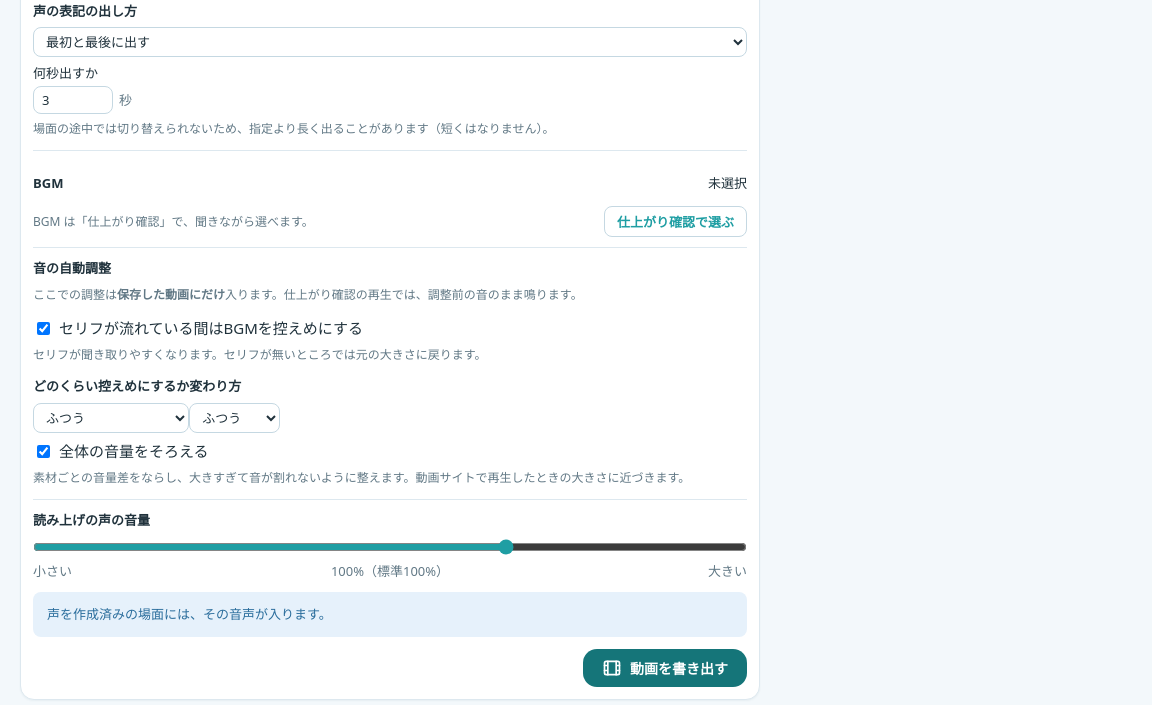
Test case: ExportScreen 取り込み中は書き出しを始めない（#570 P1・相互排他） › 音声生成中（pending 行）は書き出しを始めない＝無音MP4が成功扱いにならない（#570 P1 レビュー・#547 P2-6）
This screenshot has width=1152, height=705.
(page scrolled)
Step 1. Click the button "動画を書き出す" → (665, 668), box 583,649 -> 747,687
(page scrolled)
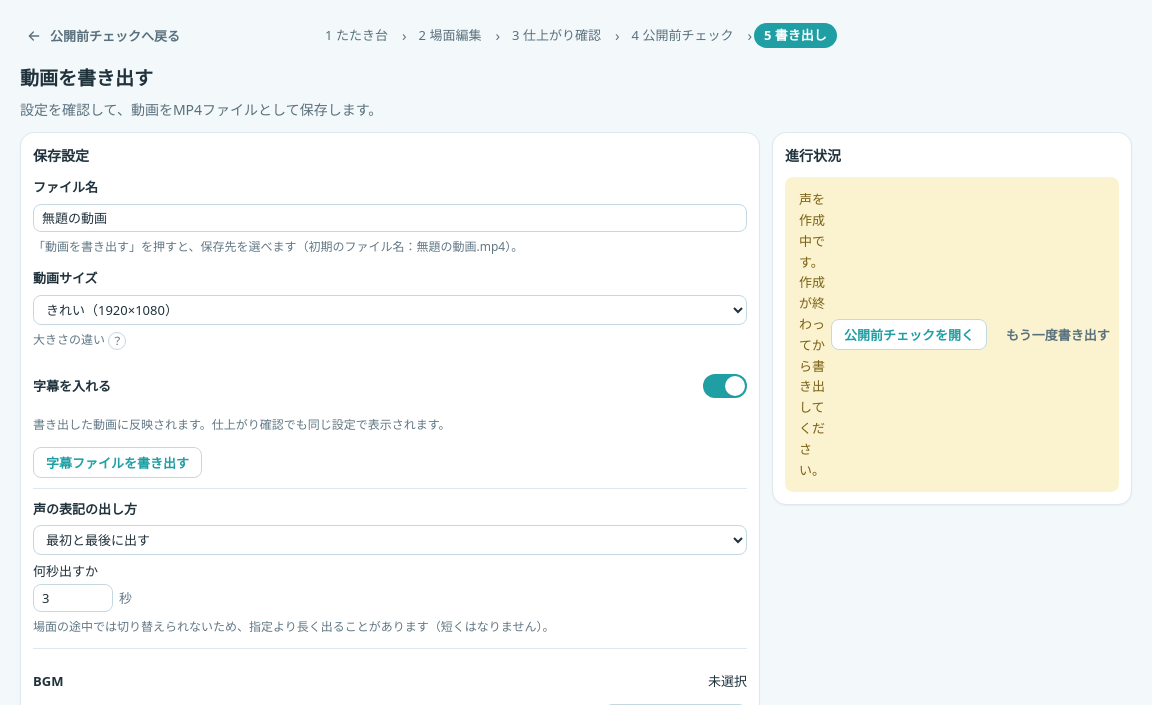
Check: the text "声を作成中です。作成が終わってから書き出してください。" is shown, box 799,189 -> 825,480
